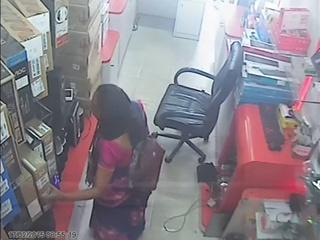Normal: (47, 84, 164, 240)
